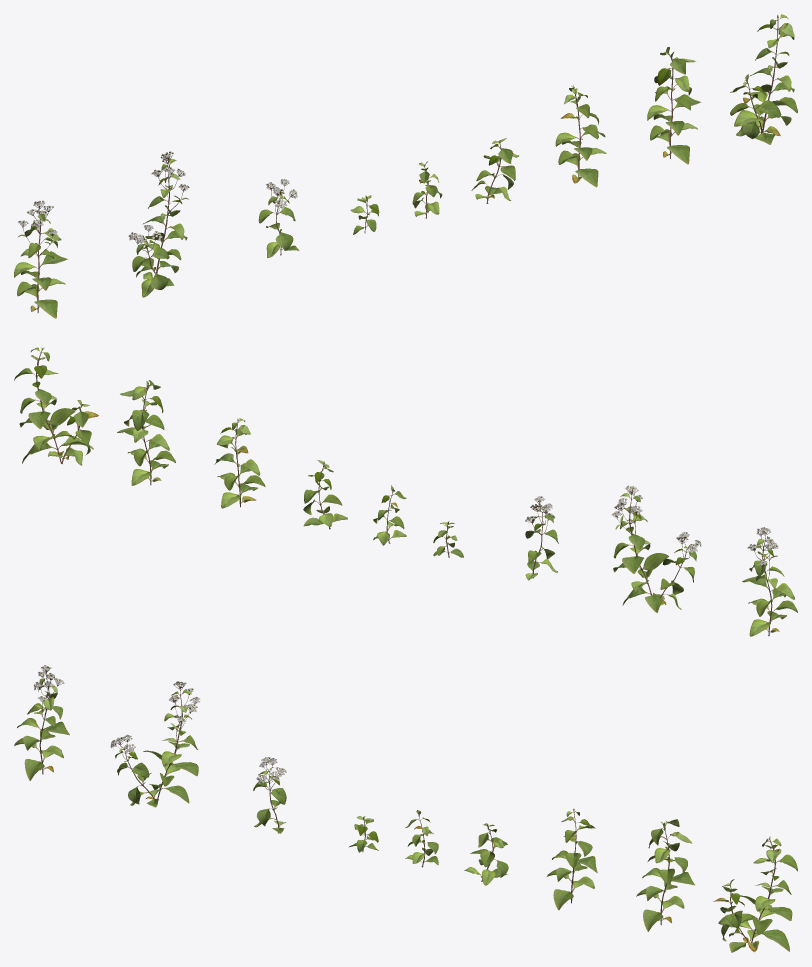
File: shrub_01.glb
The picture shows the model from 3 angles, top to bottom: view 1: azimuth 30°, elevation 25°; view 2: azimuth 150°, elevation 25°; view 3: azimuth 330°, elevation 25°; orthographic projection. The views are drawn at different scales.
Parts seen in each view (by area): view 1: shrub_01; view 2: shrub_01; view 3: shrub_01.
Boxes of the visible parts, x1=… form: shrub_01: x1=14, y1=14, x2=797, y2=318; shrub_01: x1=14, y1=347, x2=797, y2=636; shrub_01: x1=14, y1=665, x2=797, y2=952.
Bounding box in the file's own units: 2.59 × 0.3959 × 0.2184.
Materials: 1 (1 with a texture image).
